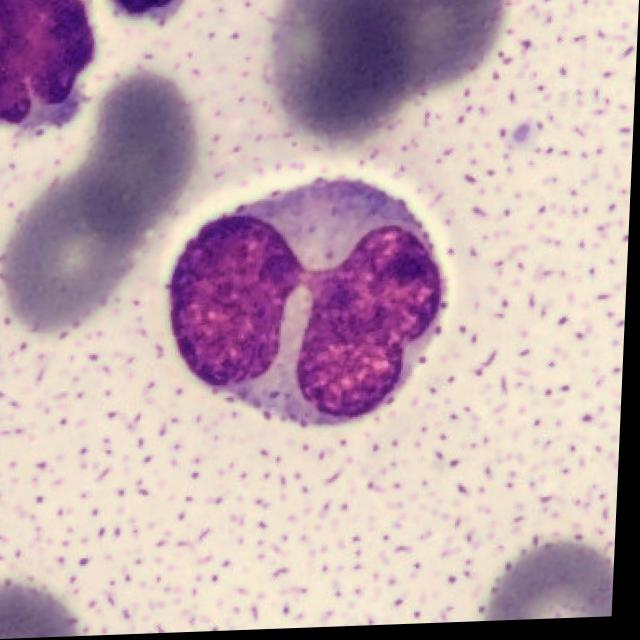Mieloblasto: (171, 182, 455, 431)
